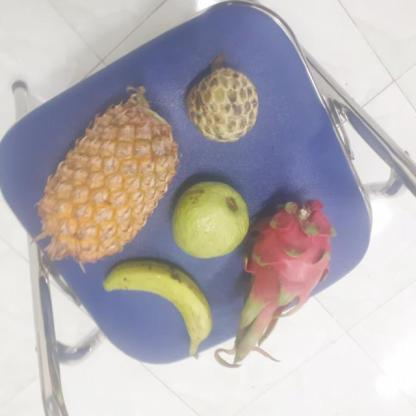annona: (179, 65, 258, 142)
banana: (100, 260, 208, 350)
guava: (167, 178, 250, 258)
pineapple: (34, 92, 179, 261)
pitaya: (232, 203, 330, 324)
